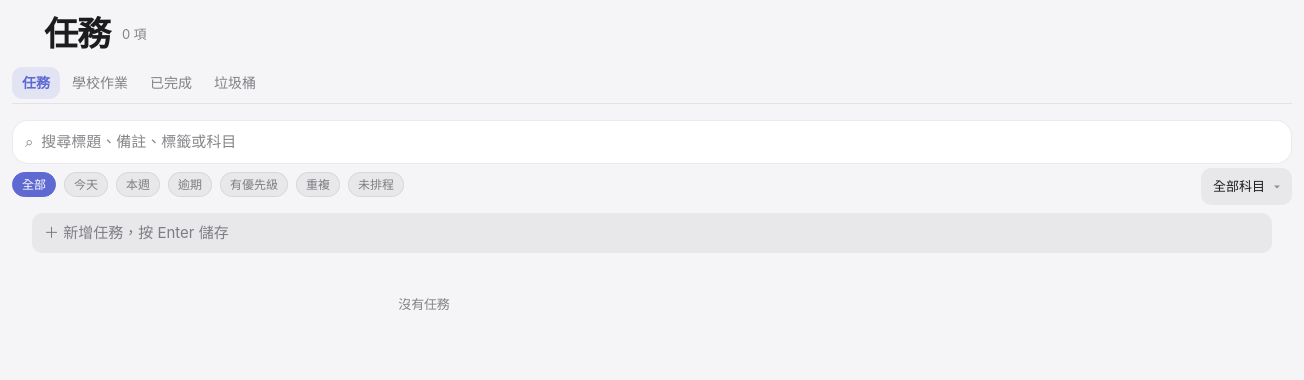
Scenario: 任務快速新增 › 可直接建立重複任務，未選日期時自動從今天起算
Type "每週整理筆記" into the field with placeholder "＋ 新增任務，按 Enter 儲存".
click(652, 233); type("每週整理筆記")  # box top-left (32, 214), bottom-right (1272, 253)
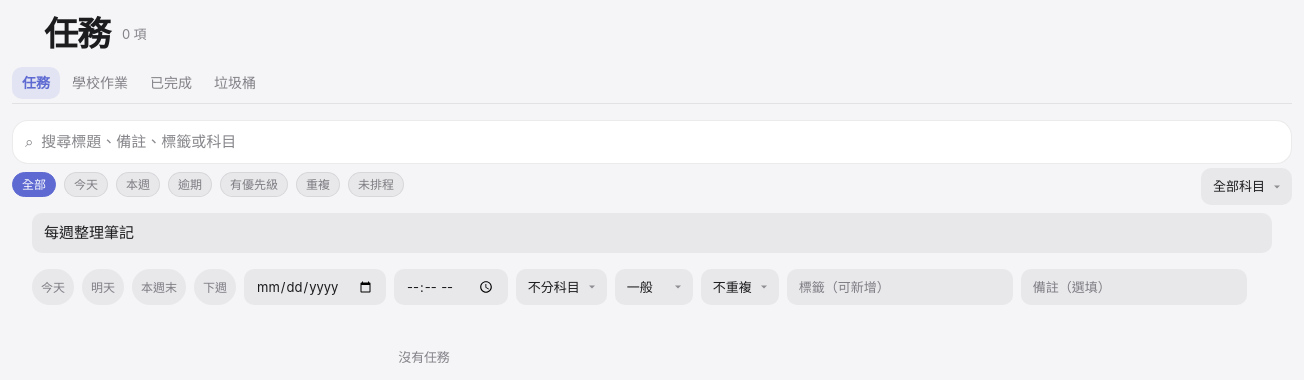
Select "每週" in the dropdown named "快速新增重複規則" at (740, 287), box top-left (701, 269), bottom-right (779, 305)
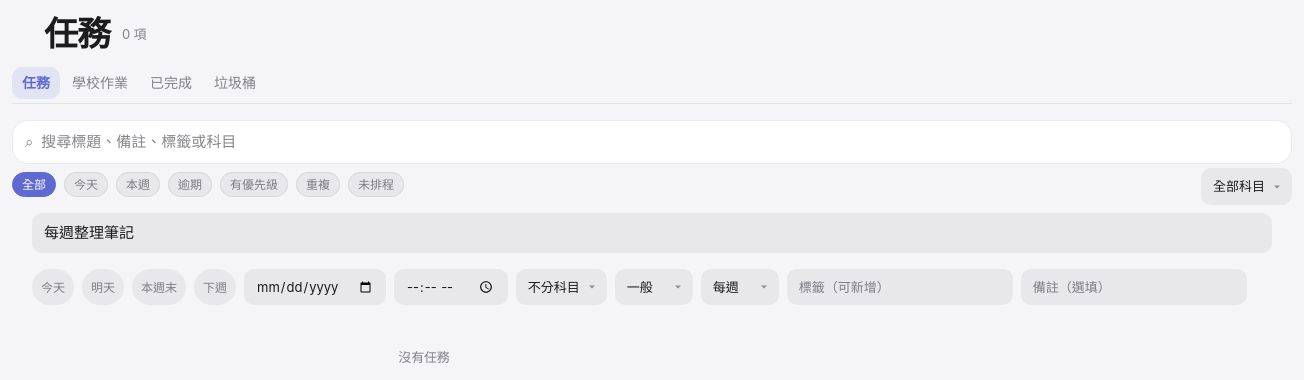
Submit the form with placeholder "＋ 新增任務，按 Enter 儲存", box top-left (32, 214), bottom-right (1272, 306)
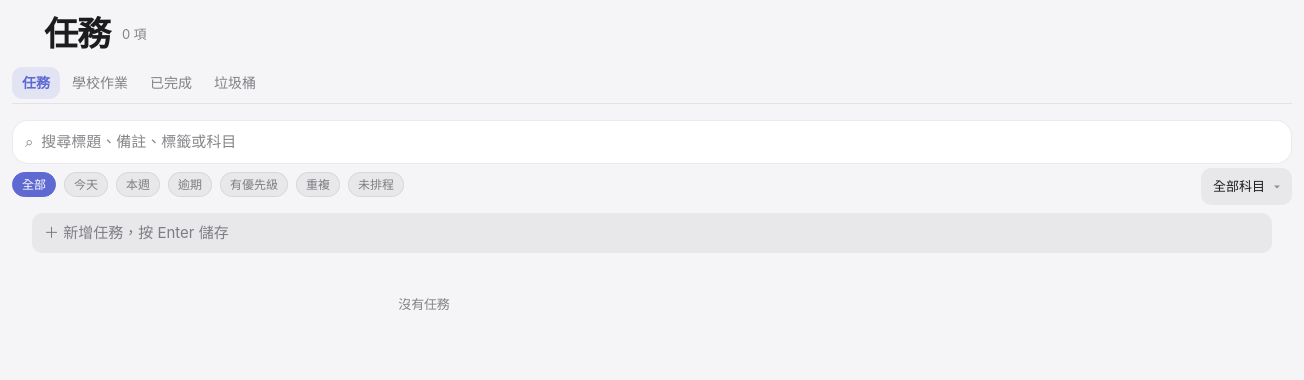
Result: the field with placeholder "＋ 新增任務，按 Enter 儲存" is empty at top-left (32, 214), bottom-right (1272, 253)
Result: the field labelled "快速新增選項" is gone
